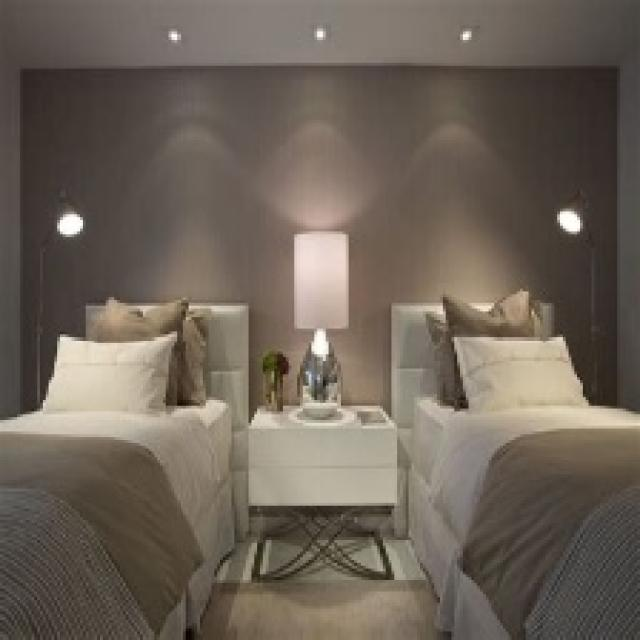Bed: (389, 294, 637, 637), (0, 297, 249, 637)
